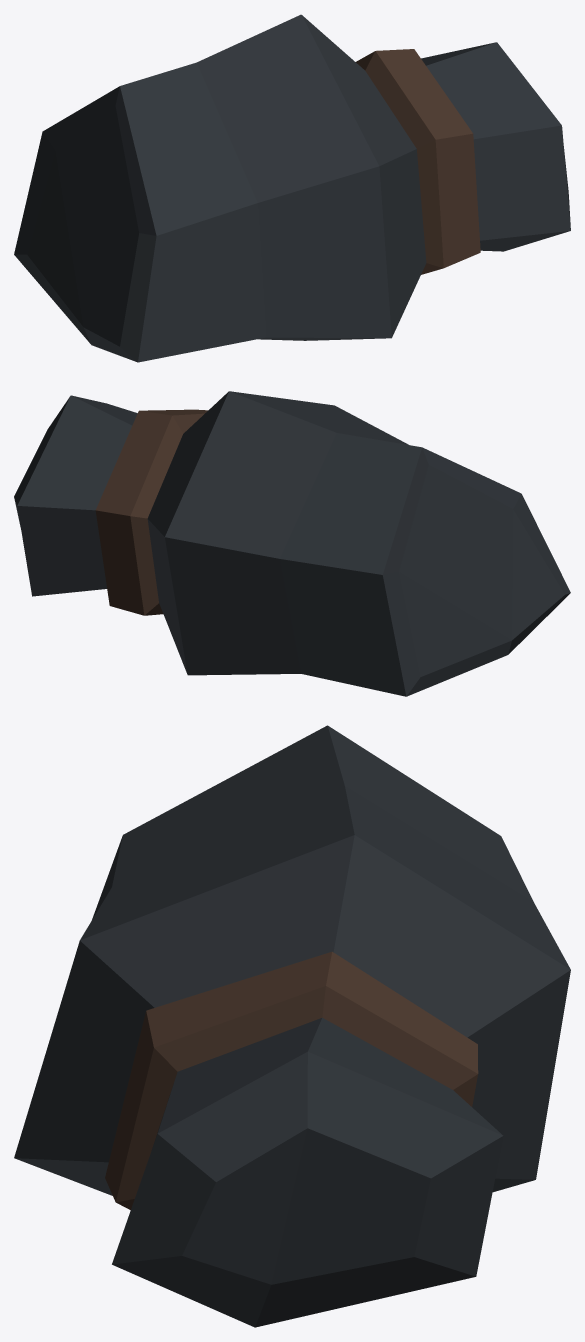
File: Chr_ArmUpperLeft_Male_17_Static.fbx
3 renders of one model, top to bottom at view 1: azimuth 30°, elevation 25°; view 2: azimuth 150°, elevation 25°; view 3: azimuth 270°, elevation 25°, orthographic. The views are drawn at different scales.
Visible parts, largest first — view 1: Chr_ArmUpperLeft_Male_17_Static; view 2: Chr_ArmUpperLeft_Male_17_Static; view 3: Chr_ArmUpperLeft_Male_17_Static.
Part boxes in pixels (x1,y1,x2,y2): Chr_ArmUpperLeft_Male_17_Static: [14, 14, 570, 362]; Chr_ArmUpperLeft_Male_17_Static: [14, 391, 570, 696]; Chr_ArmUpperLeft_Male_17_Static: [14, 725, 570, 1327].
Bounding box in the file's own units: 0.3255 × 0.1948 × 0.2238.
